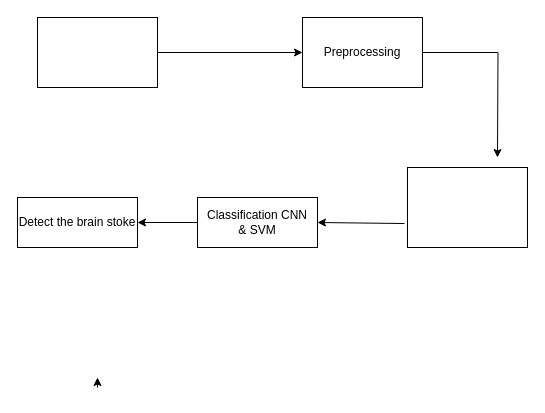
Image size: 545x413. Some labels were removed from this diagram. Here are the shapes that lost their labels. From the top down, the centre of each, then its label:
At point (97, 52): "Input as Image & CSV Datasets".
At point (467, 207): "Feature Extraction".
